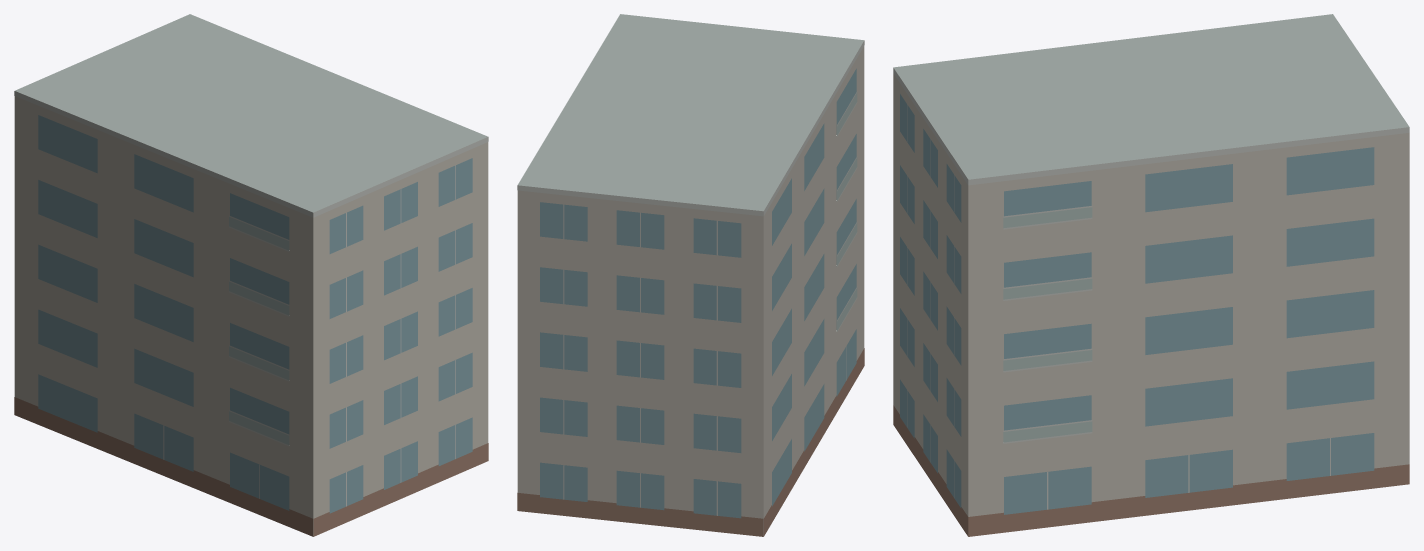
File: survey-upis-32558095.glb
3 views of the same model, side by side, from view 1: azimuth 30°, elevation 25°; view 2: azimuth 150°, elevation 25°; view 3: azimuth 270°, elevation 25° (orthographic). The views are drawn at different scales.
Visible parts, largest first — view 1: survey-upis-32558095.tmp; view 2: survey-upis-32558095.tmp; view 3: survey-upis-32558095.tmp.
Boxes of the visible parts, x1,y1,x2,y2 form: survey-upis-32558095.tmp: (14,14,488,536); survey-upis-32558095.tmp: (517,14,864,536); survey-upis-32558095.tmp: (893,14,1409,536).
Size of the model in its own units: 15.44 by 15.5 by 20.32.
